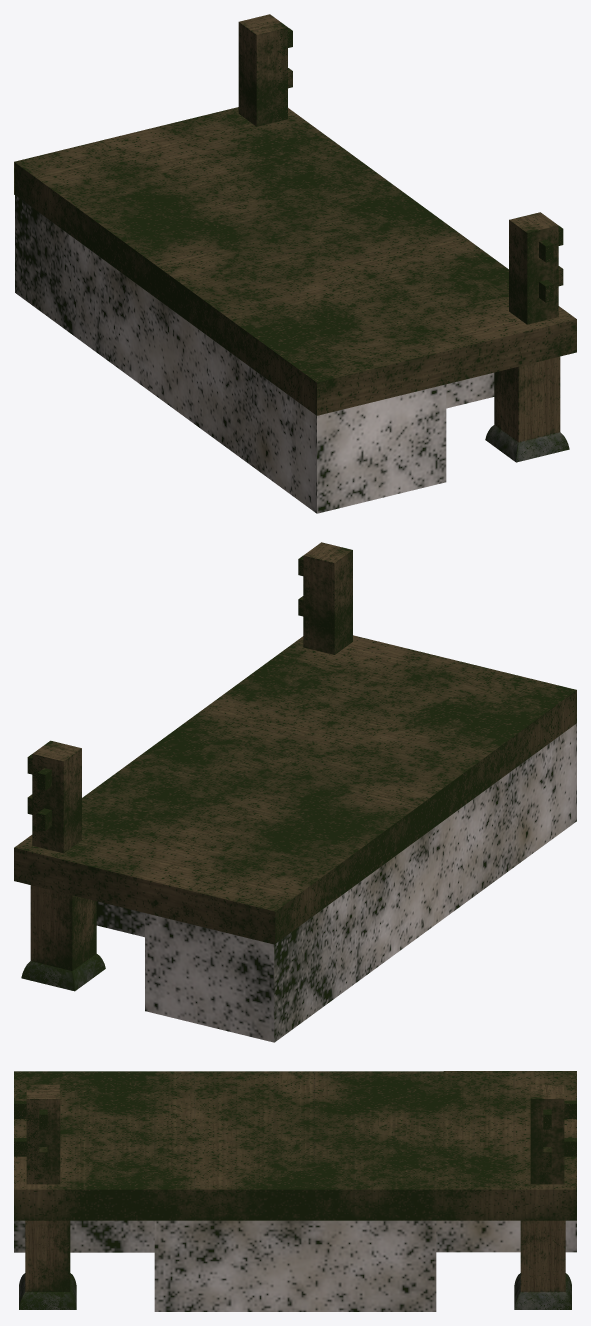
Rendered from shrine_floor_outside_tjunction_03.fbx.
3 renders of one model, top to bottom at view 1: azimuth 30°, elevation 25°; view 2: azimuth 150°, elevation 25°; view 3: azimuth 270°, elevation 25°, orthographic. The views are drawn at different scales.
Visible parts, largest first — view 1: shrine_floor_outside_tjunction_03; view 2: shrine_floor_outside_tjunction_03; view 3: shrine_floor_outside_tjunction_03.
Part boxes in pixels (x1,y1,x2,y2): shrine_floor_outside_tjunction_03: [14, 14, 576, 513]; shrine_floor_outside_tjunction_03: [14, 542, 576, 1042]; shrine_floor_outside_tjunction_03: [14, 1071, 576, 1311].
Bounding box in the file's own units: 165 × 134 × 330.
Materials: 1 (1 with a texture image).
